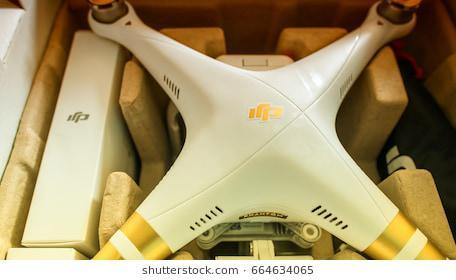drone: (0, 0, 456, 258)
